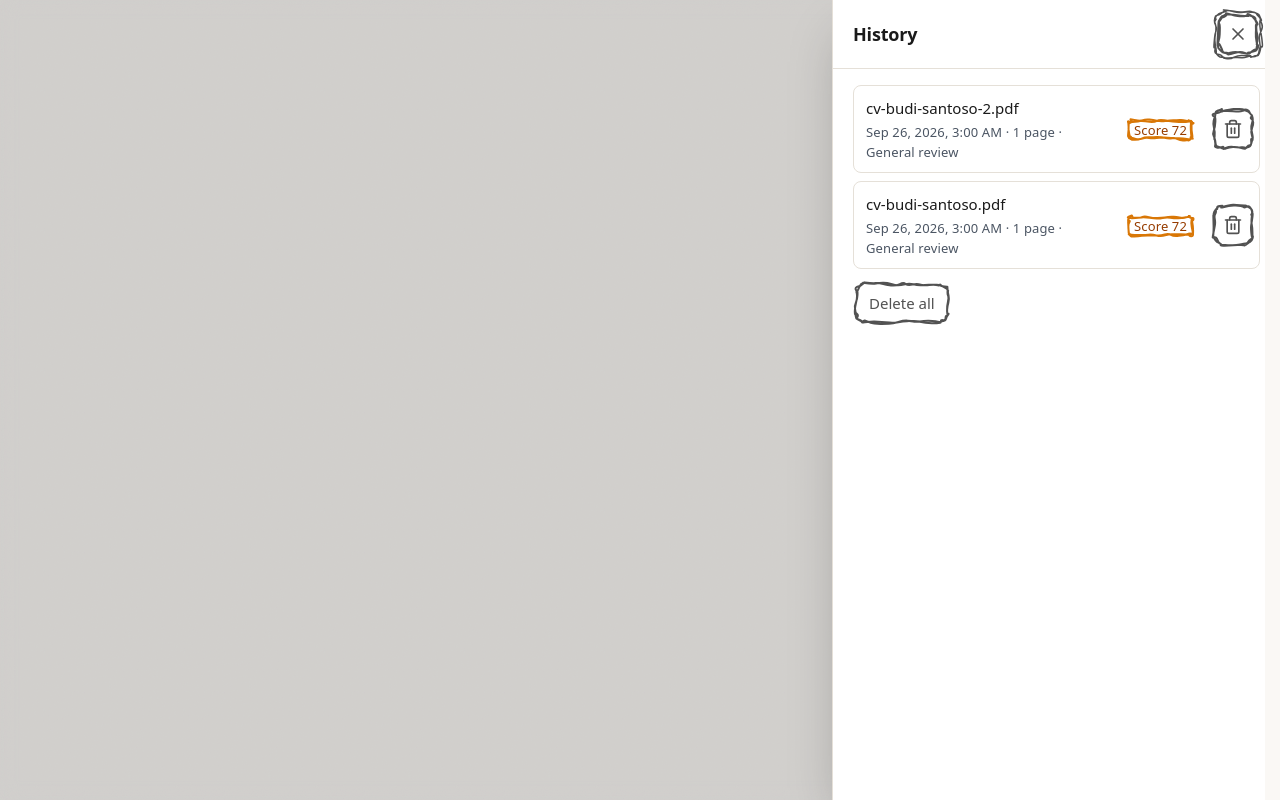
HistoryDrawer (FEAT-09) › clears everything after confirmation
Click the button "Delete all" at (902, 303), box [853, 281, 951, 325]
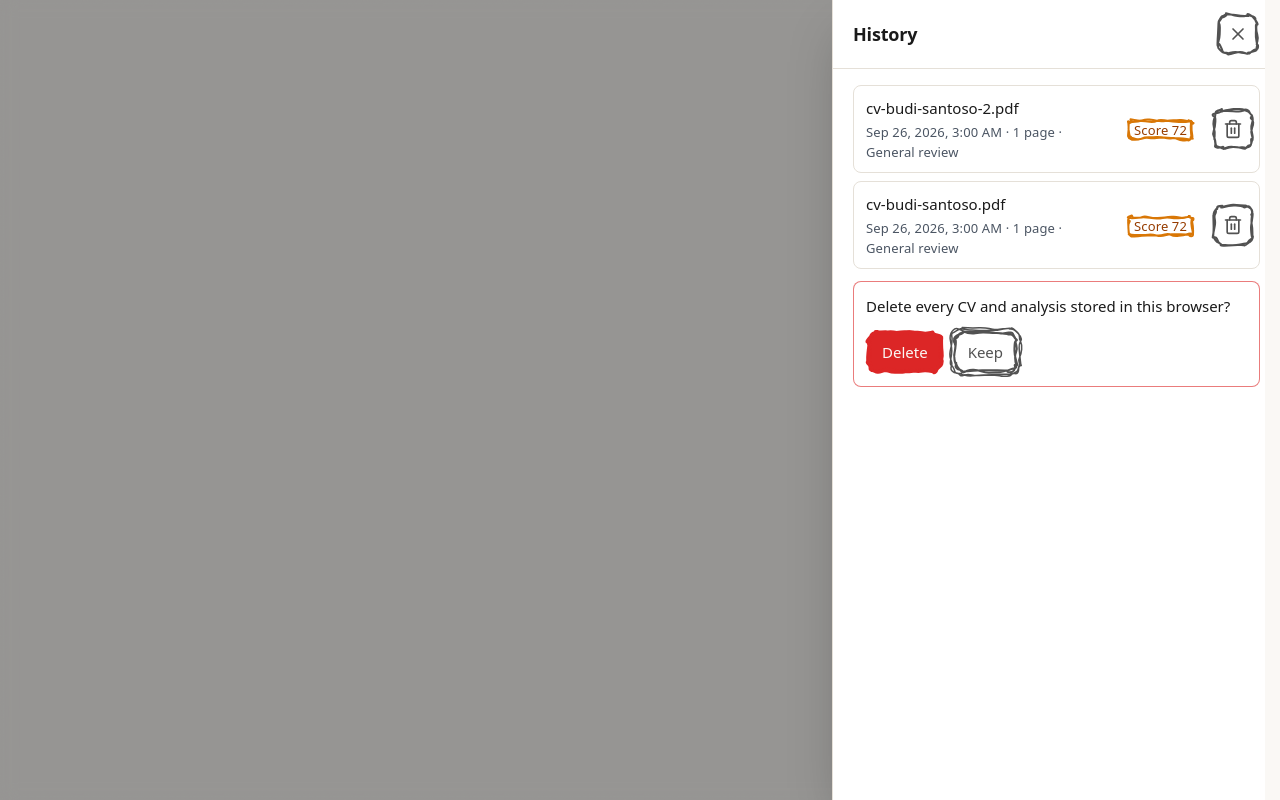
Expected: the text "Delete every CV and analysis stored in this browser?" is shown, [866, 294, 1247, 318]
Click the button "Delete" at (905, 352), box [866, 330, 944, 374]
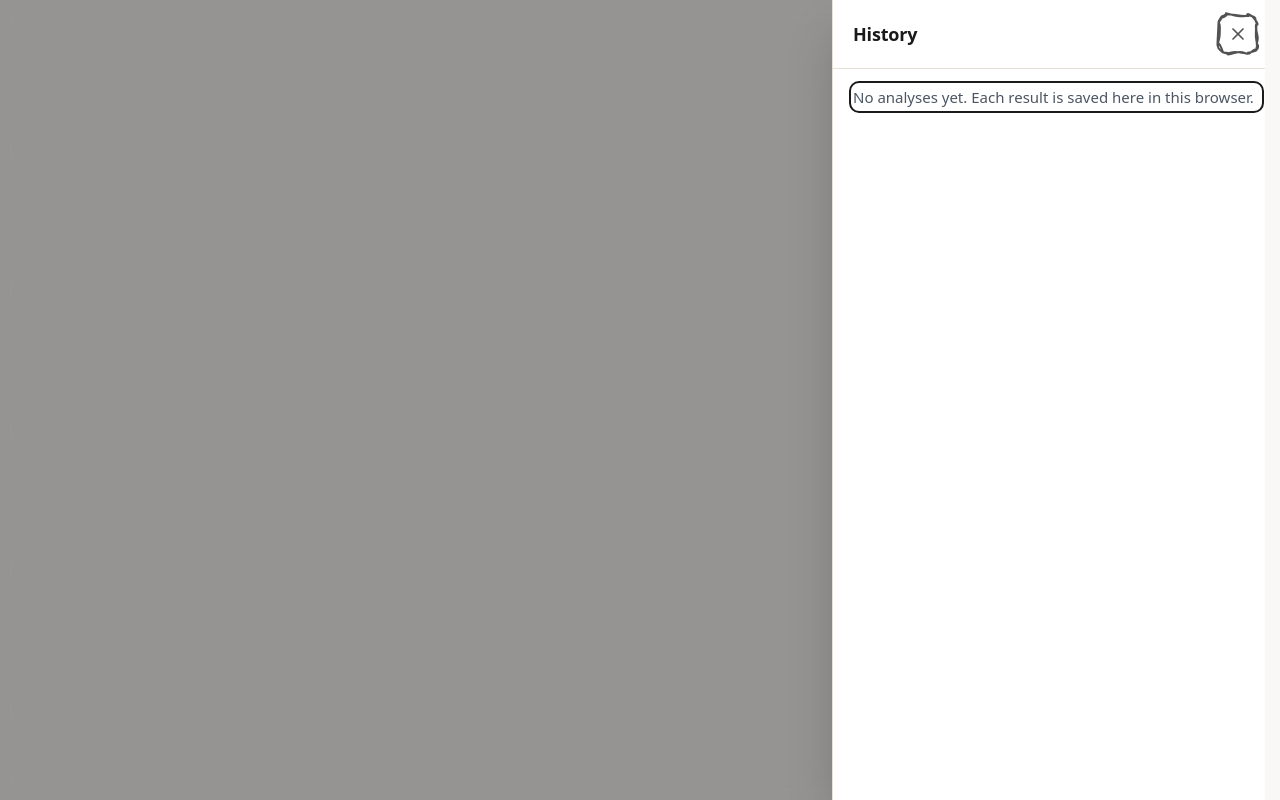
Expected: the text "No analyses yet. Each result is saved here in this browser." is shown, [853, 85, 1260, 109]
